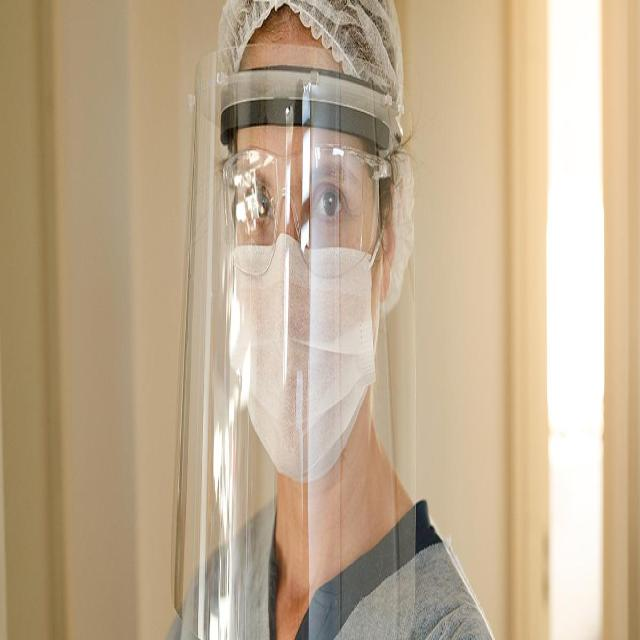Mask: (230, 235, 374, 473)
